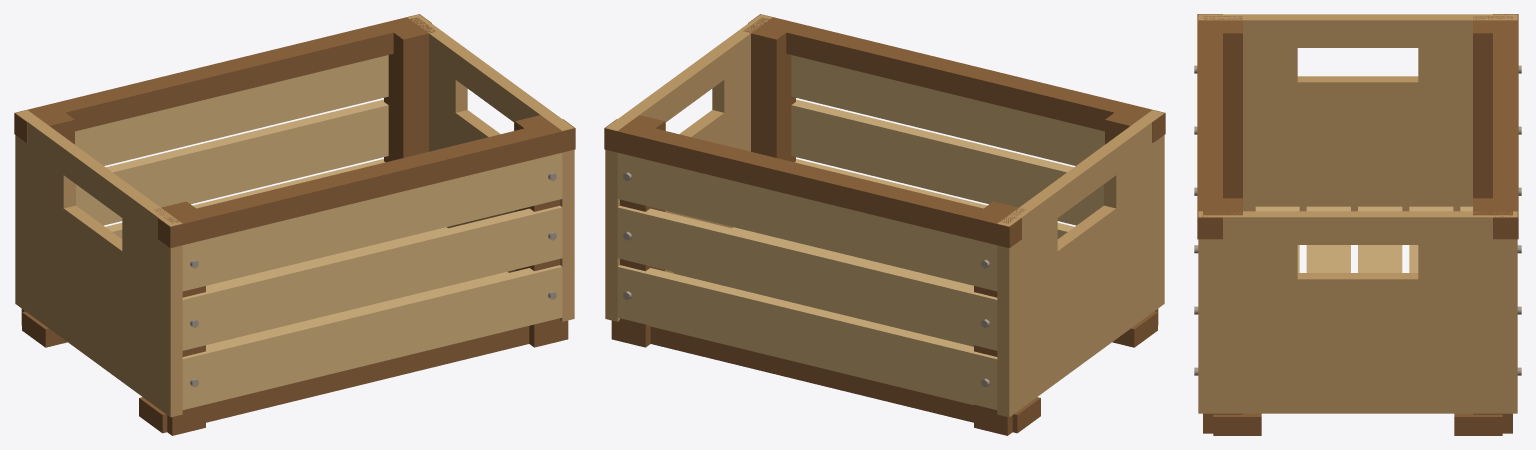
Rendered from caisse_a_ramasser.glb.
3 renders of one model, left to right at view 1: azimuth 30°, elevation 25°; view 2: azimuth 150°, elevation 25°; view 3: azimuth 270°, elevation 25°, orthographic. The views are drawn at different scales.
Parts seen in each view (by area): view 1: end_panel_left, side_slat_f2, side_slat_f1, side_slat_f3, side_slat_b2, rim_front, side_slat_b3, rim_back, end_panel_right, runner_front, post_3, post_4 (+6 smaller); view 2: end_panel_left, side_slat_b2, side_slat_b1, side_slat_b3, side_slat_f2, rim_back, side_slat_f3, rim_front, end_panel_right, runner_back, post_4, post_3 (+6 smaller); view 3: end_panel_right, end_panel_left, rim_front, rim_back, post_2, post_1, floor_slat_3, floor_slat_4, runner_front, runner_back, post_3, post_4 (+2 smaller).
Boxes of the visible parts, bbox=[...] form: end_panel_left: bbox=[15, 110, 182, 417]; side_slat_f2: bbox=[182, 205, 562, 350]; side_slat_f1: bbox=[182, 265, 562, 409]; side_slat_f3: bbox=[182, 153, 562, 291]; side_slat_b2: bbox=[76, 99, 388, 225]; rim_front: bbox=[158, 119, 575, 248]; side_slat_b3: bbox=[75, 55, 388, 165]; rim_back: bbox=[14, 14, 431, 142]; end_panel_right: bbox=[407, 14, 574, 321]; runner_front: bbox=[139, 326, 529, 433]; post_3: bbox=[384, 17, 435, 162]; post_4: bbox=[515, 115, 568, 347]; end_panel_left: bbox=[997, 110, 1164, 417]; side_slat_b2: bbox=[617, 205, 997, 350]; side_slat_b1: bbox=[617, 265, 997, 409]; side_slat_b3: bbox=[617, 153, 997, 291]; side_slat_f2: bbox=[791, 99, 1103, 225]; rim_back: bbox=[604, 119, 1021, 248]; side_slat_f3: bbox=[791, 55, 1104, 165]; rim_front: bbox=[748, 14, 1165, 142]; end_panel_right: bbox=[605, 14, 772, 321]; runner_back: bbox=[650, 326, 1040, 433]; post_4: bbox=[743, 17, 795, 162]; post_3: bbox=[611, 115, 664, 347]; end_panel_right: bbox=[1198, 211, 1517, 413]; end_panel_left: bbox=[1198, 14, 1517, 211]; rim_front: bbox=[1197, 14, 1222, 239]; rim_back: bbox=[1493, 14, 1518, 239]; post_2: bbox=[1203, 16, 1242, 198]; post_1: bbox=[1473, 16, 1512, 198]; floor_slat_3: bbox=[1358, 206, 1402, 272]; floor_slat_4: bbox=[1306, 206, 1350, 272]; runner_front: bbox=[1213, 413, 1261, 435]; runner_back: bbox=[1454, 413, 1502, 435]; post_3: bbox=[1473, 198, 1512, 433]; post_4: bbox=[1203, 198, 1242, 433].
Size of the model in its own units: 0.6 by 0.3 by 0.408.
